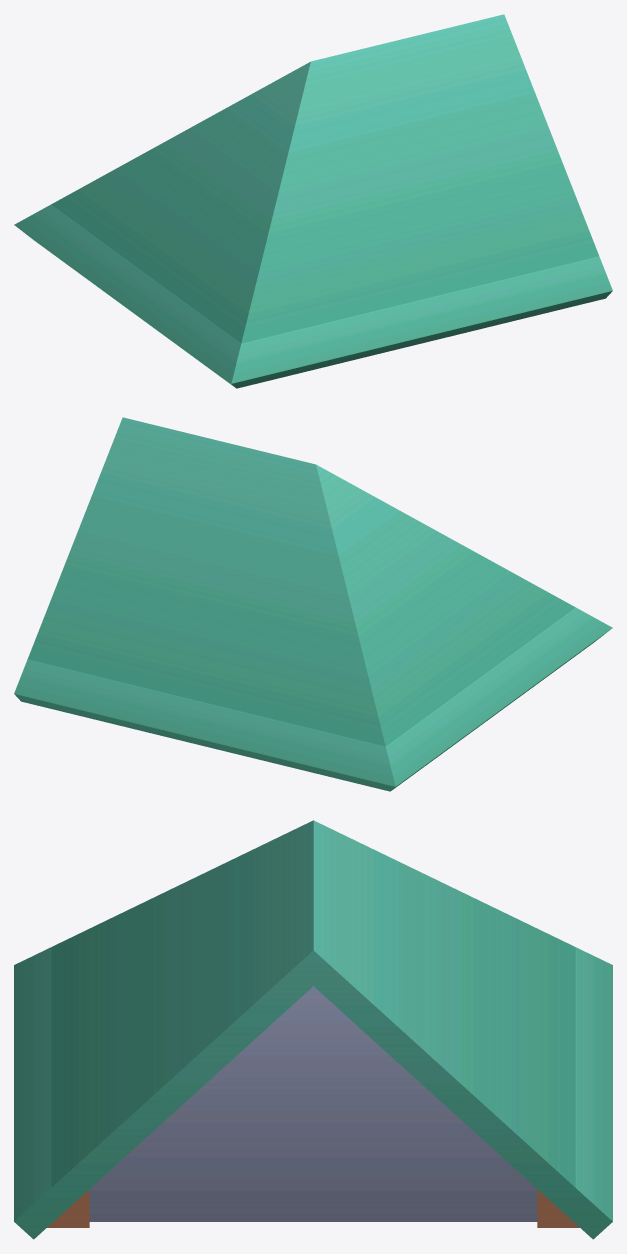
Rendered from roof-gable-end.glb.
3 views of the same model, one above another, from view 1: azimuth 30°, elevation 25°; view 2: azimuth 150°, elevation 25°; view 3: azimuth 270°, elevation 25° (orthographic). The views are drawn at different scales.
Visible parts, largest first — view 1: roof-gable-end; view 2: roof-gable-end; view 3: roof-gable-end.
Part boxes in pixels (x1=…): roof-gable-end: x1=14, y1=14, x2=612, y2=388; roof-gable-end: x1=14, y1=417, x2=612, y2=791; roof-gable-end: x1=14, y1=820, x2=612, y2=1239.
Size of the model in its own units: 1.09 by 0.5707 by 1.07.
Materials: 1 (1 with a texture image).
